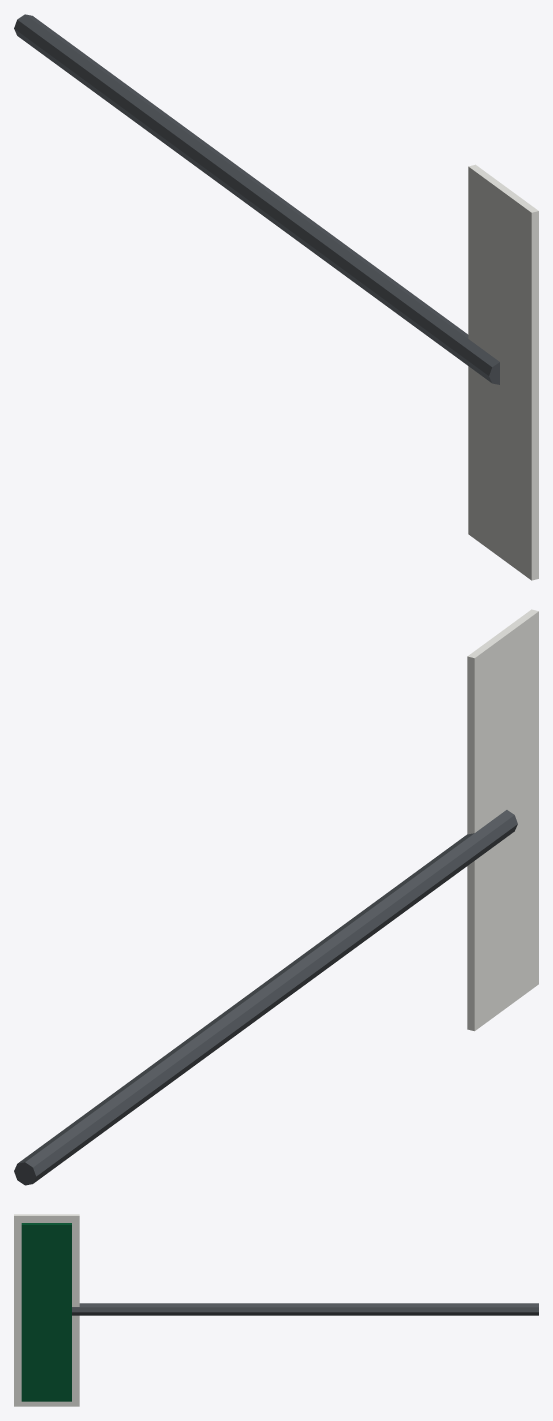
The model's file is sign_us_d3_1.obj.
The picture shows the model from 3 angles, top to bottom: view 1: azimuth 30°, elevation 25°; view 2: azimuth 150°, elevation 25°; view 3: azimuth 270°, elevation 25°; orthographic projection. The views are drawn at different scales.
Visible parts, largest first — view 1: sign_us_d3_1_border, sign_us_d3_1_post; view 2: sign_us_d3_1_border, sign_us_d3_1_post; view 3: sign_us_d3_1_field, sign_us_d3_1_post, sign_us_d3_1_border.
Boxes of the visible parts, x1,y1,x2,y2 form: sign_us_d3_1_border: (468,164,538,580); sign_us_d3_1_post: (14,14,499,384); sign_us_d3_1_border: (467,609,538,1031); sign_us_d3_1_post: (14,810,517,1185); sign_us_d3_1_field: (21,1223,71,1401); sign_us_d3_1_post: (72,1303,538,1315); sign_us_d3_1_border: (14,1214,79,1406).
Size of the model in its own units: 0.07 by 0.9612 by 2.4.
